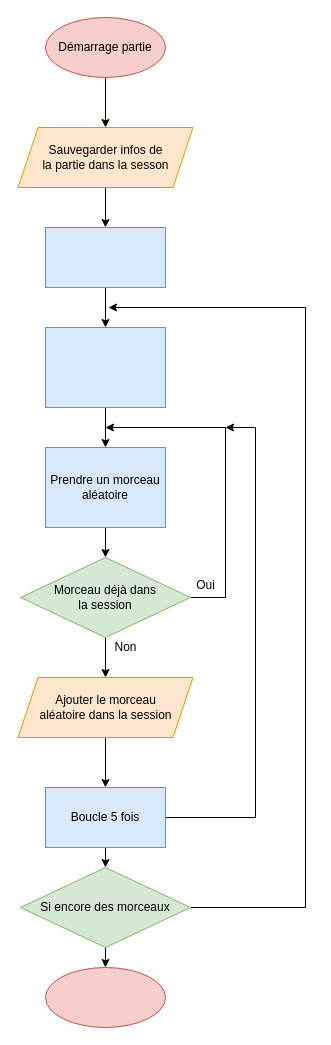
This 331x1045 diagram has some shape labels left out. Each missing label, with the centre of its shape:
"Ajouter le morceau actuel dans la session" goes at [105,367].
"Fin démarrage partie" goes at [105,997].
"Pour chaque morceau" goes at [105,257].
